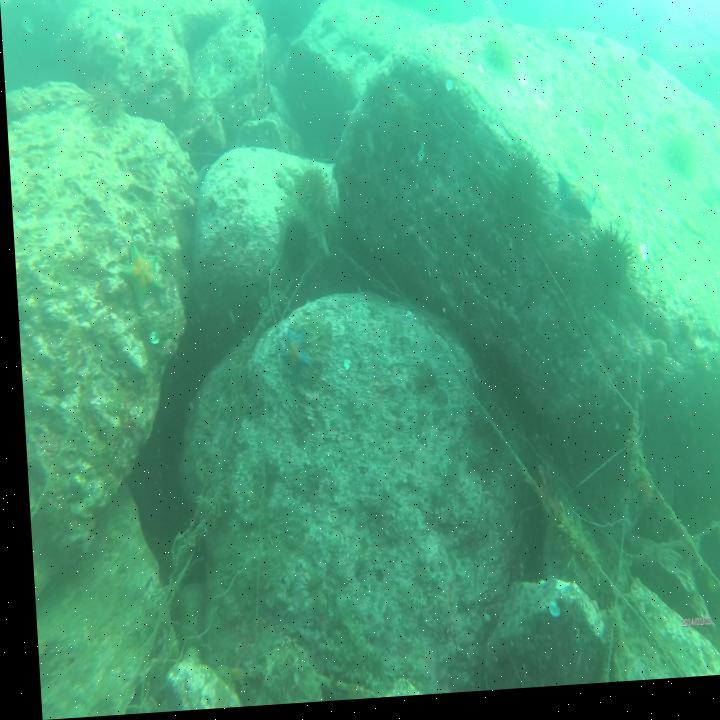echinus: (583, 229, 631, 306), (84, 77, 124, 130), (295, 169, 326, 215), (279, 220, 308, 268)
starfish: (114, 241, 165, 317), (271, 333, 309, 389)
